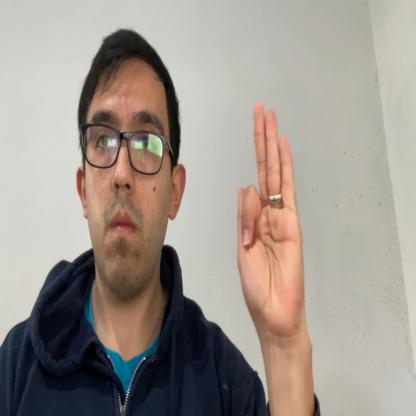F: (237, 103, 304, 334)
